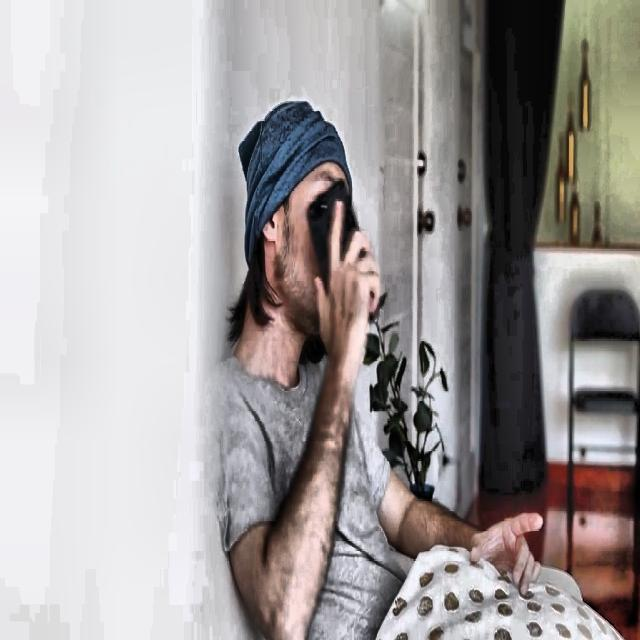Phone: (307, 176, 363, 301)
